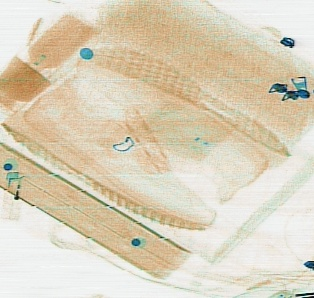lighter: (2, 169, 25, 219)
